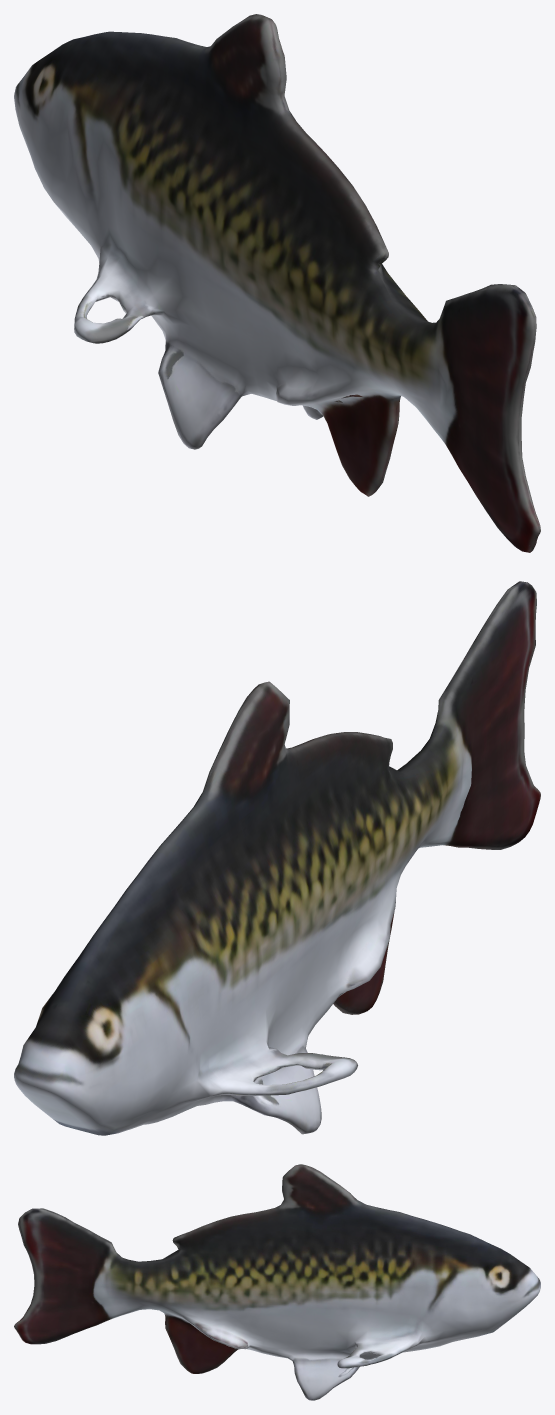
File: fish_18.glb
The picture shows the model from 3 angles, top to bottom: view 1: azimuth 30°, elevation 25°; view 2: azimuth 150°, elevation 25°; view 3: azimuth 270°, elevation 25°; orthographic projection. The views are drawn at different scales.
Visible parts, largest first — view 1: mesh; view 2: mesh; view 3: mesh.
Part boxes in pixels (x1,y1,x2,y2): mesh: [14, 14, 540, 552]; mesh: [14, 581, 540, 1135]; mesh: [14, 1164, 540, 1400].
Size of the model in its own units: 0.3182 by 0.4634 by 0.9977.
Materials: 1 (1 with a texture image).
